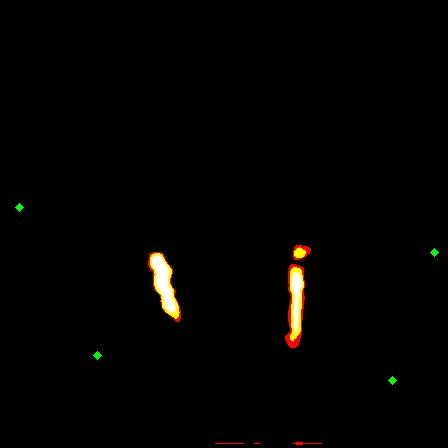coin_1: (97, 355, 117, 375)
coin_2: (19, 207, 39, 227)
coin_3: (392, 380, 412, 400)
coin_4: (434, 252, 448, 272)
